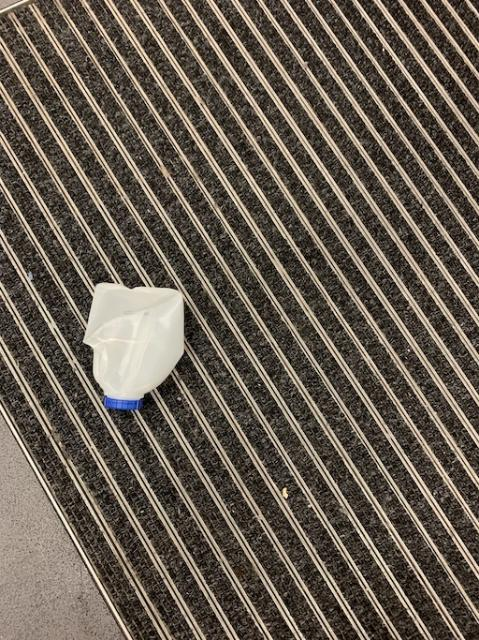plastic: (82, 282, 183, 409)
